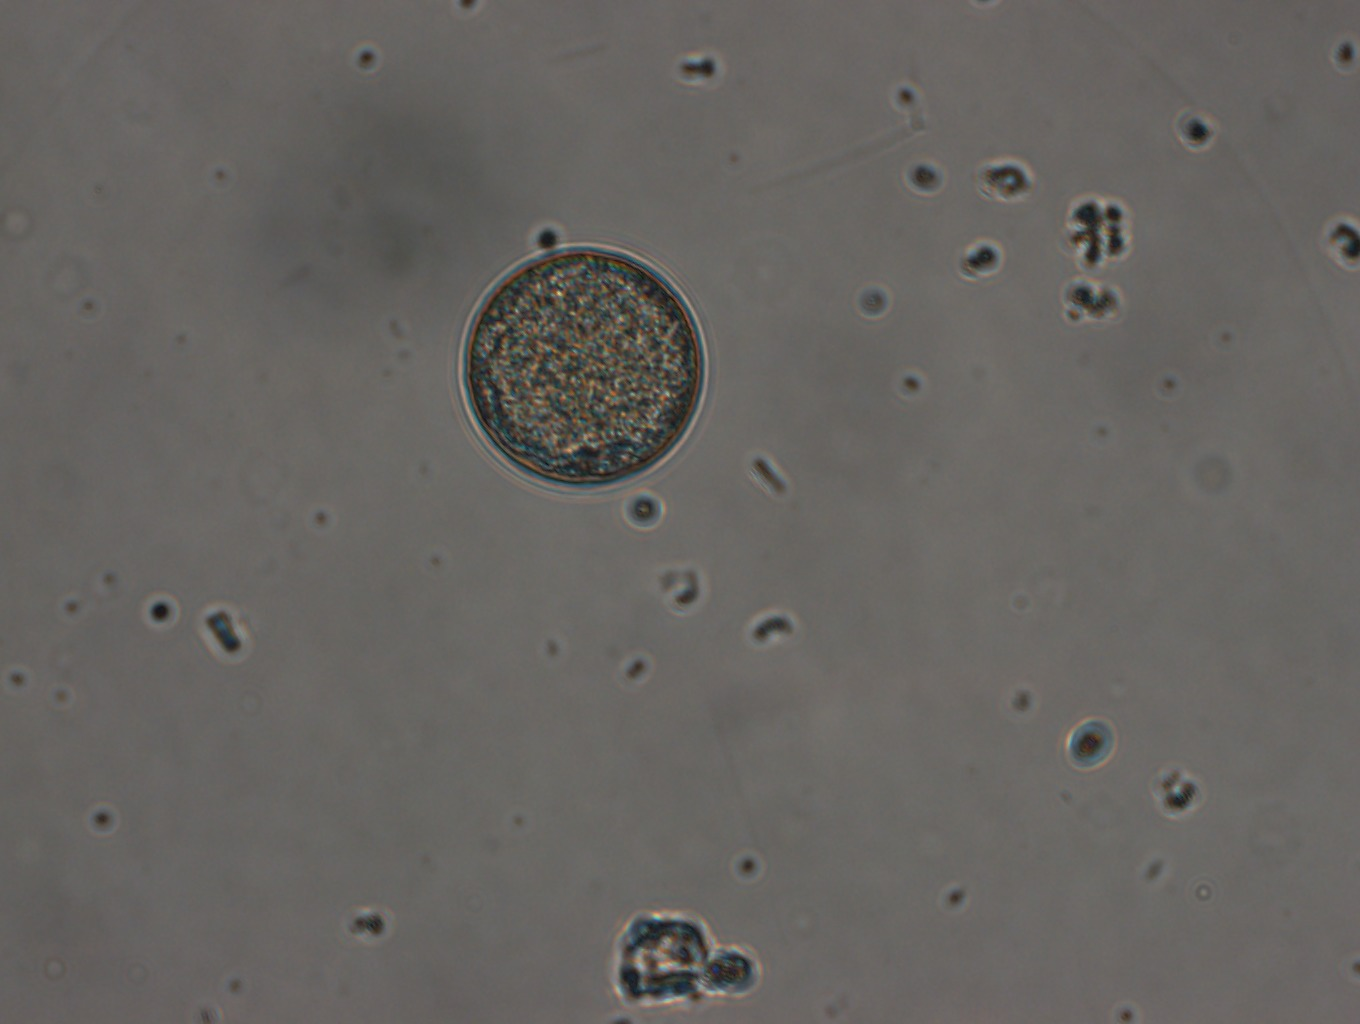coscinodiscus: (456, 242, 719, 496)
